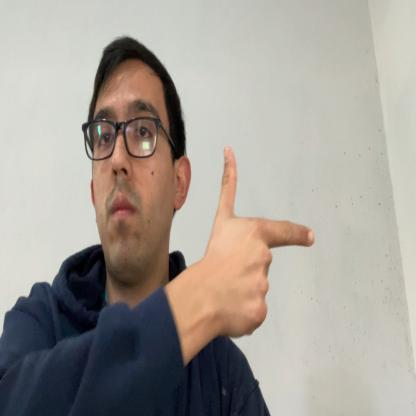G: (210, 145, 315, 337)
